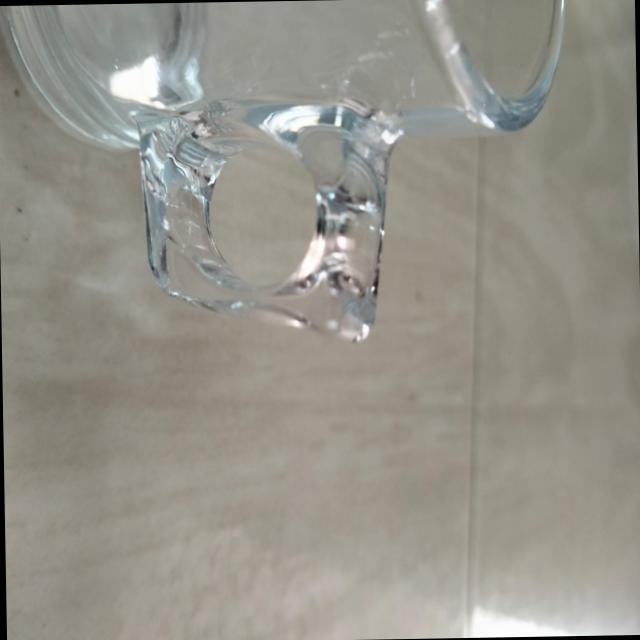glass-VX4N: (0, 0, 574, 350)
